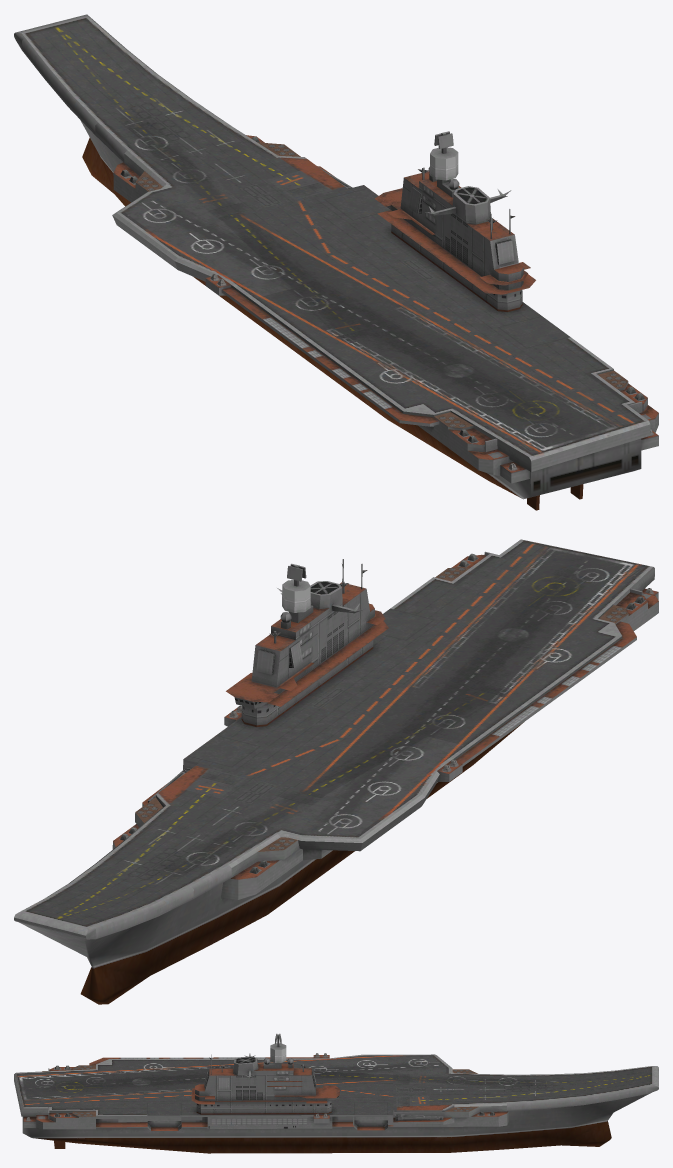
The model's file is carrier.obj.
3 renders of one model, top to bottom at view 1: azimuth 30°, elevation 25°; view 2: azimuth 150°, elevation 25°; view 3: azimuth 270°, elevation 25°, orthographic. The views are drawn at different scales.
Visible parts, largest first — view 1: DrawCall96, DrawCall97; view 2: DrawCall96, DrawCall97; view 3: DrawCall96, DrawCall97.
Boxes of the visible parts, <box> form: DrawCall96: <box>14,14,658,510</box>; DrawCall97: <box>136,142,627,428</box>; DrawCall96: <box>14,539,658,1004</box>; DrawCall97: <box>135,566,628,851</box>; DrawCall96: <box>14,1033,658,1153</box>; DrawCall97: <box>72,1065,478,1116</box>.
Bounding box in the file's own units: 78.16 × 68.25 × 302.
